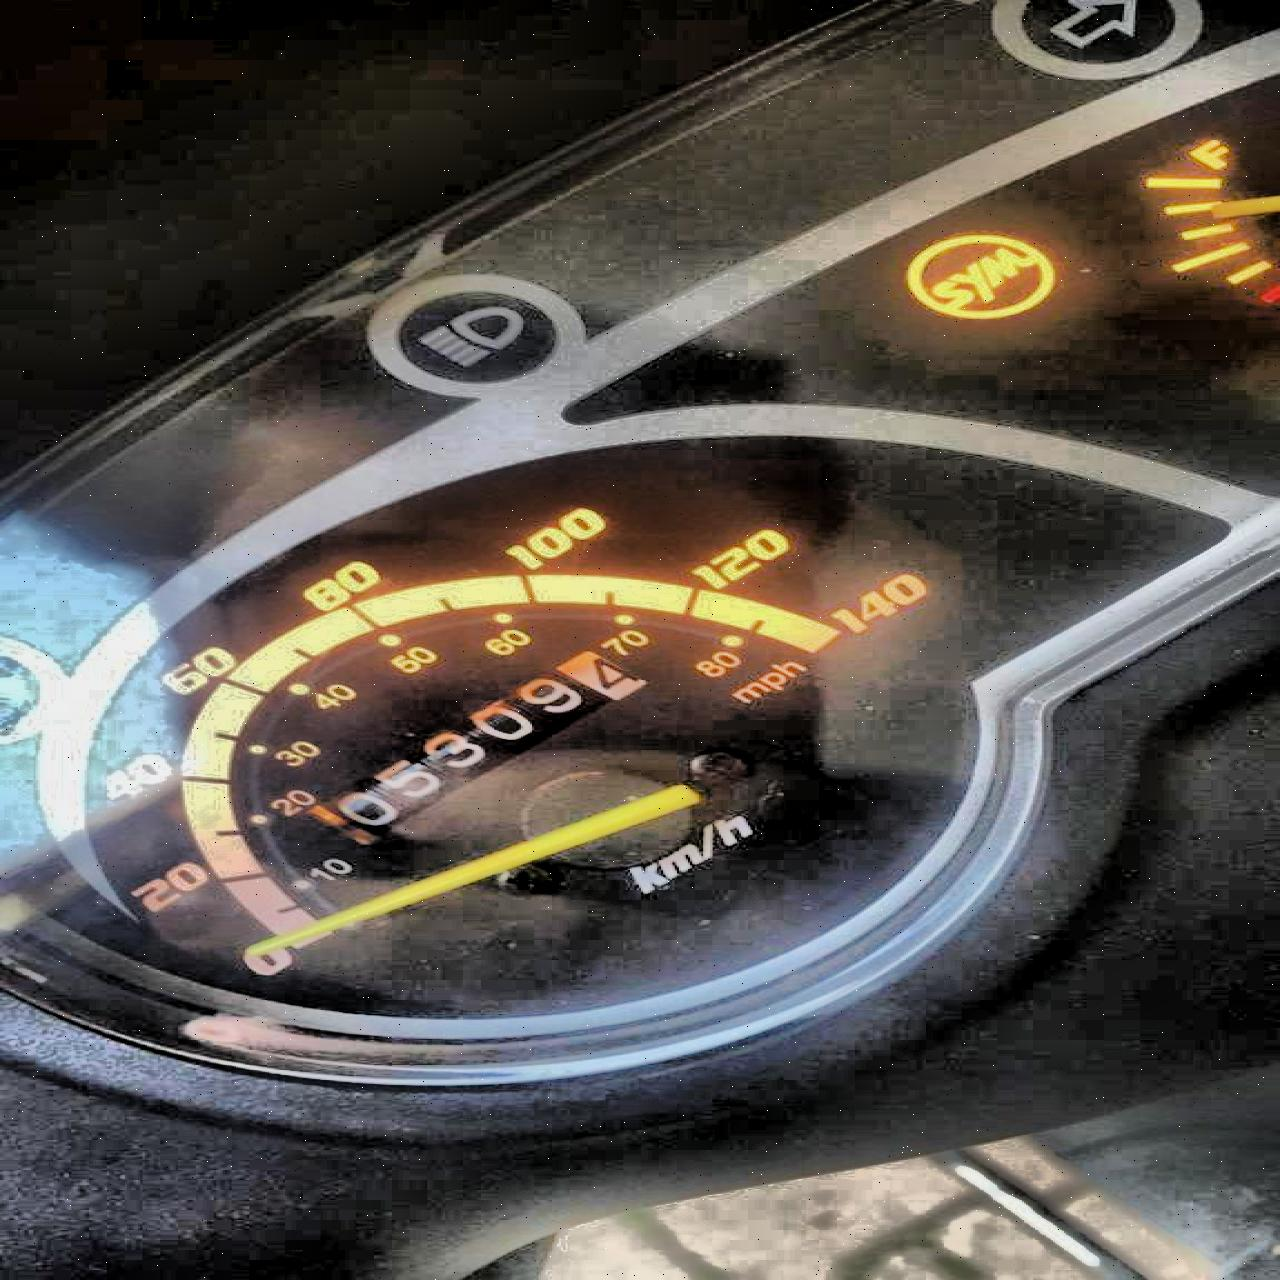0: (322, 791, 399, 826), (470, 703, 535, 738), (321, 682, 354, 699), (406, 645, 436, 662)
3: (409, 731, 497, 768)
4: (577, 653, 646, 693), (307, 692, 341, 710)
5: (374, 758, 443, 796), (388, 654, 418, 673)
9: (512, 675, 581, 713)
odometer: (302, 645, 656, 849)
